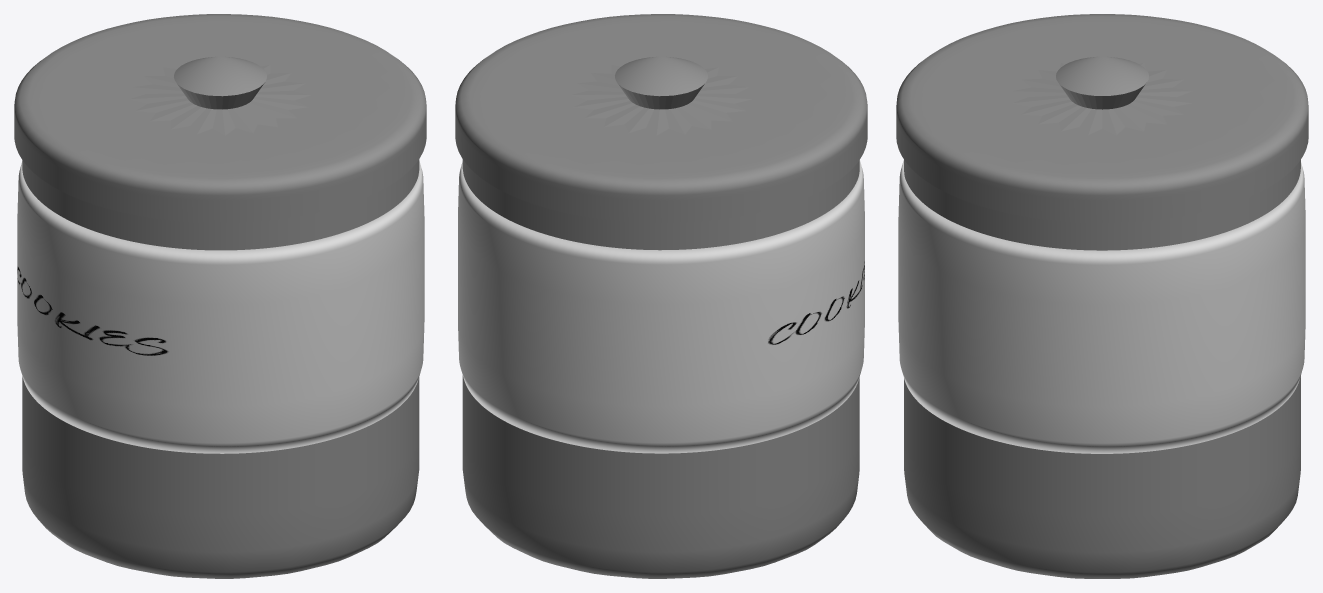
File: cookiejar01.fbx
The picture shows the model from 3 angles, left to right: view 1: azimuth 30°, elevation 25°; view 2: azimuth 150°, elevation 25°; view 3: azimuth 270°, elevation 25°; orthographic projection.
Visible parts, largest first — view 1: pCylinder3, pCylinder2, pCylinder1; view 2: pCylinder3, pCylinder2, pCylinder1; view 3: pCylinder3, pCylinder2, pCylinder1.
Boxes of the visible parts, x1,y1,x2,y2 form: pCylinder3: [17, 161, 424, 453]; pCylinder2: [14, 14, 426, 222]; pCylinder1: [22, 159, 419, 578]; pCylinder3: [458, 160, 864, 453]; pCylinder2: [455, 14, 867, 222]; pCylinder1: [462, 159, 859, 578]; pCylinder3: [898, 159, 1305, 453]; pCylinder2: [896, 14, 1308, 222]; pCylinder1: [904, 160, 1300, 578].
Bounding box in the file's own units: 2.09 × 2.51 × 2.09.
2 materials, 1 textured.
